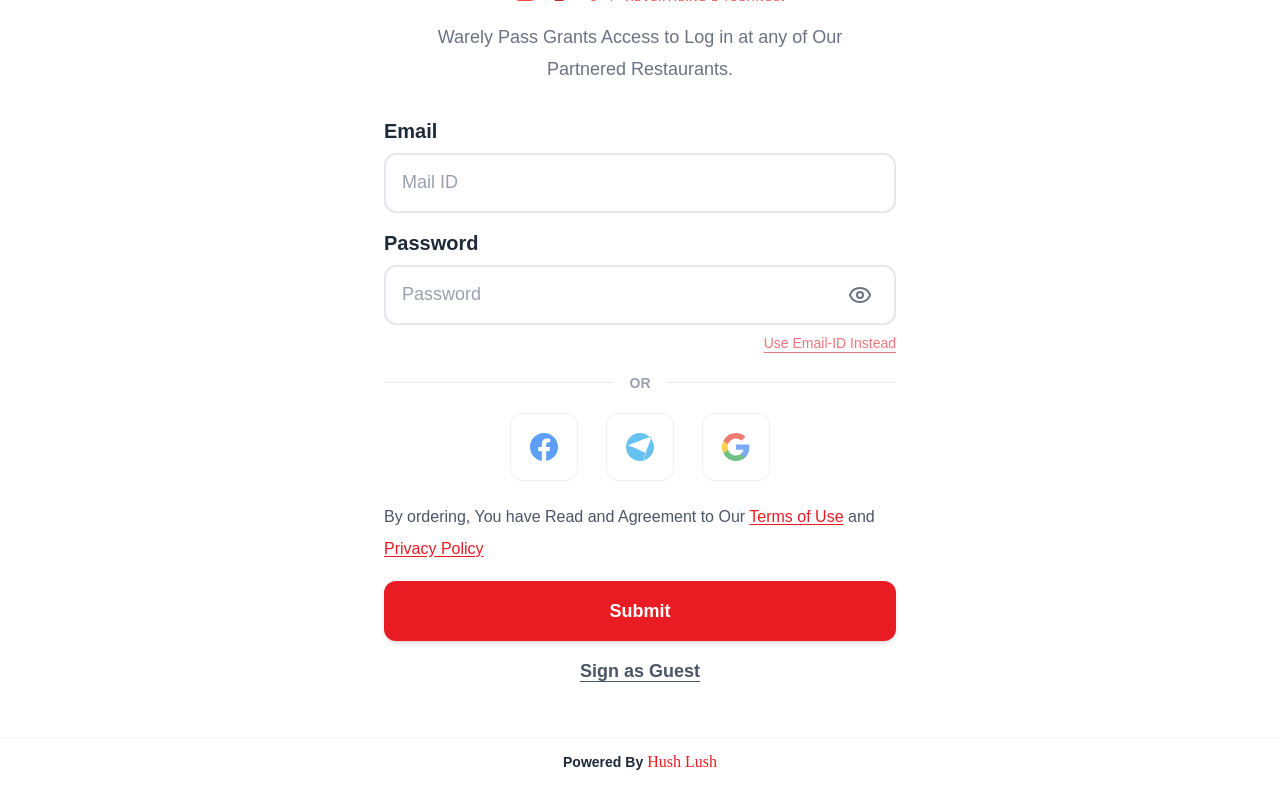
Test: Login validation › shows an error when email and password are empty
(page scrolled)
Click the button "Submit": (640, 610) x1=384 y1=580 x2=896 y2=640
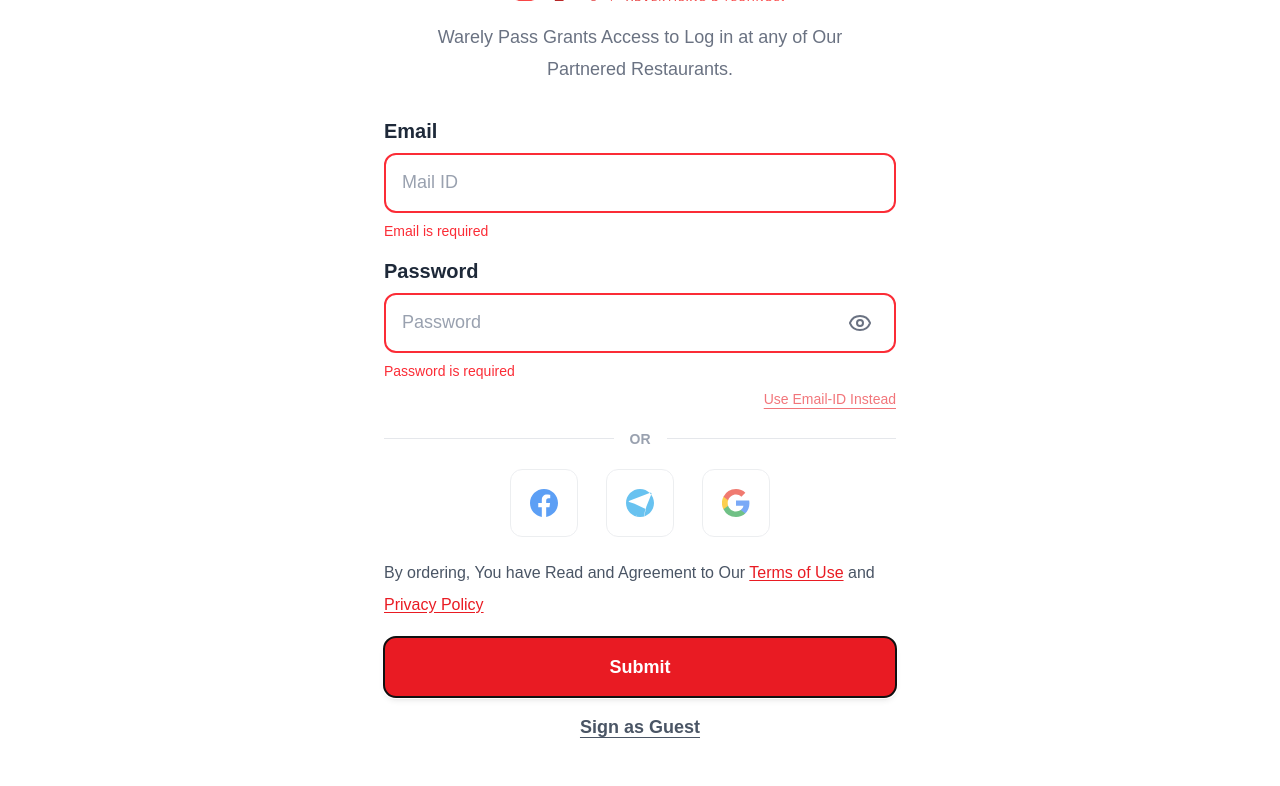
Expected: the text "Email is required" is shown, x1=384 y1=222 x2=488 y2=238
Expected: the text "Password is required" is shown, x1=384 y1=362 x2=515 y2=378
